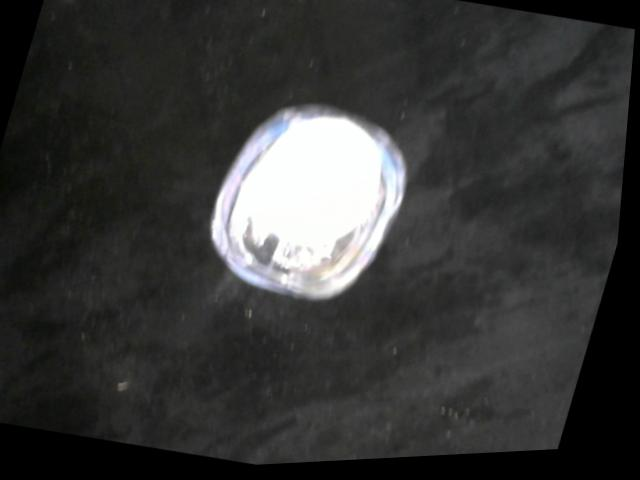bottle: (194, 87, 431, 325)
